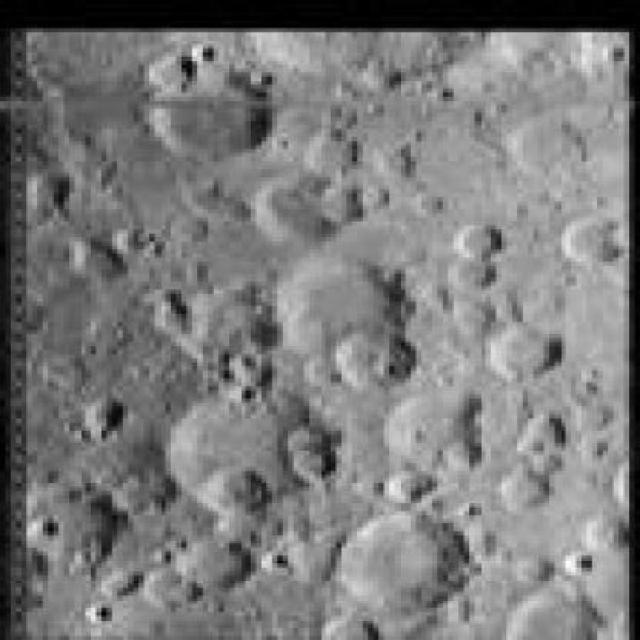crater: (165, 378, 346, 520), (276, 263, 407, 360), (149, 58, 273, 156), (340, 517, 469, 608), (386, 388, 482, 478), (332, 332, 418, 388), (484, 318, 547, 380)
